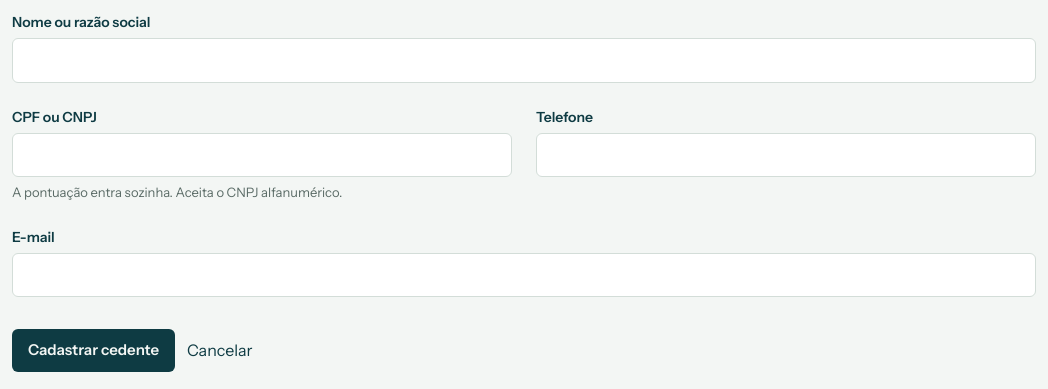
AssignorForm › pontua CPF, CNPJ e telefone enquanto a pessoa digita
Type "52998224725" into the field labelled "CPF ou CNPJ" at (262, 155), box [12,132,512,177]
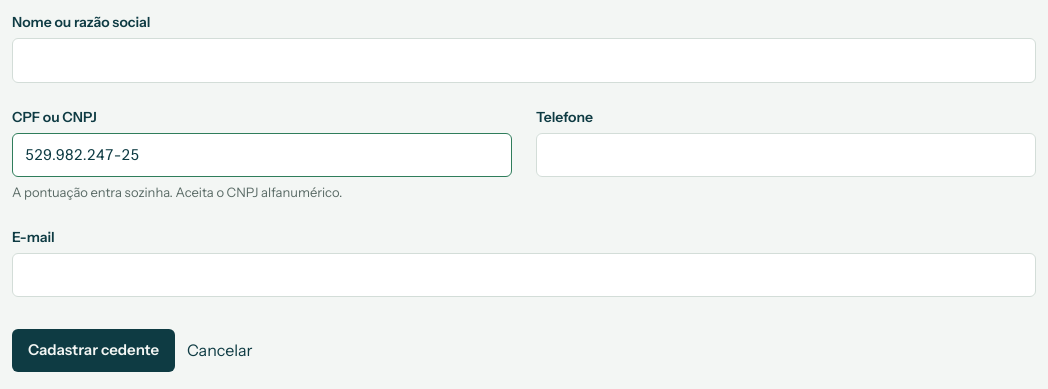
Expected: the field labelled "CPF ou CNPJ" holds "529.982.247-25"
Type "123" into the field labelled "CPF ou CNPJ" at (262, 155), box [12,132,512,177]
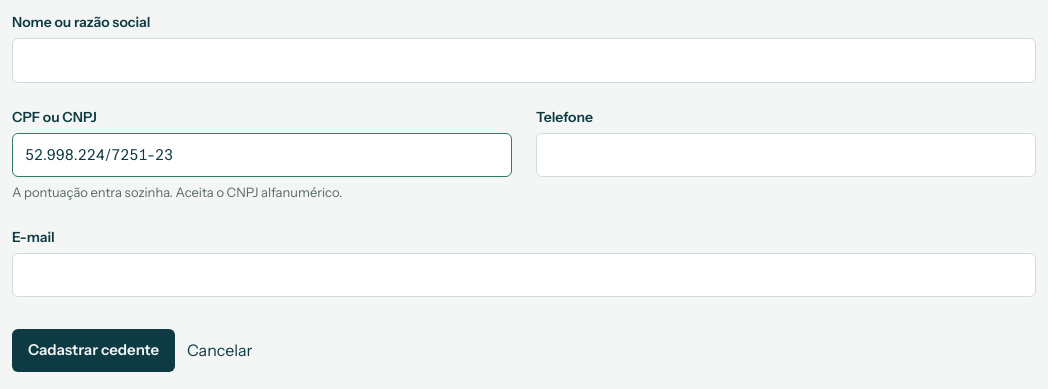
Expected: the field labelled "CPF ou CNPJ" holds "52.998.224/7251-23"
Replace the text in the field labelled "CPF ou CNPJ" with "12abc34501de35" at (262, 155), box [12,132,512,177]
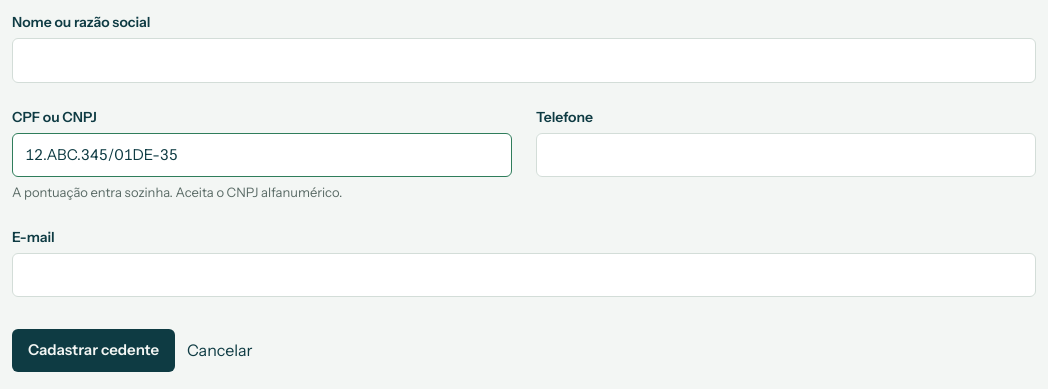
Expected: the field labelled "CPF ou CNPJ" holds "12.ABC.345/01DE-35", [12,132,512,177]
Type "41999990000" into the field labelled "Telefone" at (786, 155), box [536,132,1036,177]
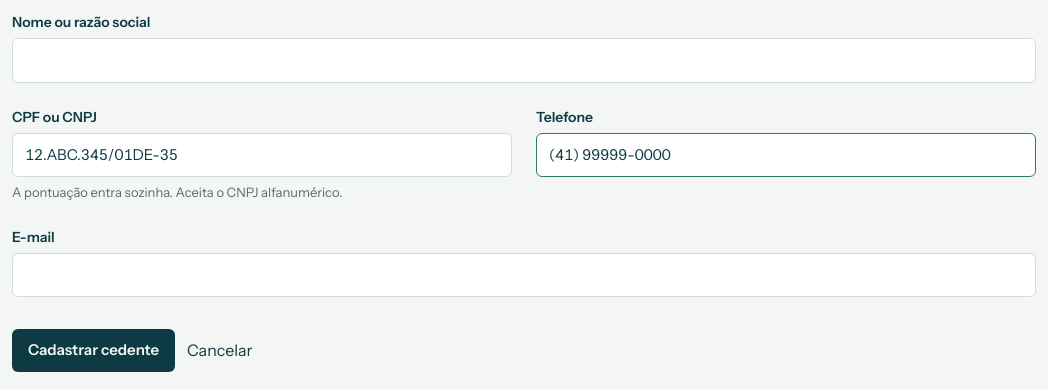
Expected: the field labelled "Telefone" holds "(41) 99999-0000", [536,132,1036,177]
